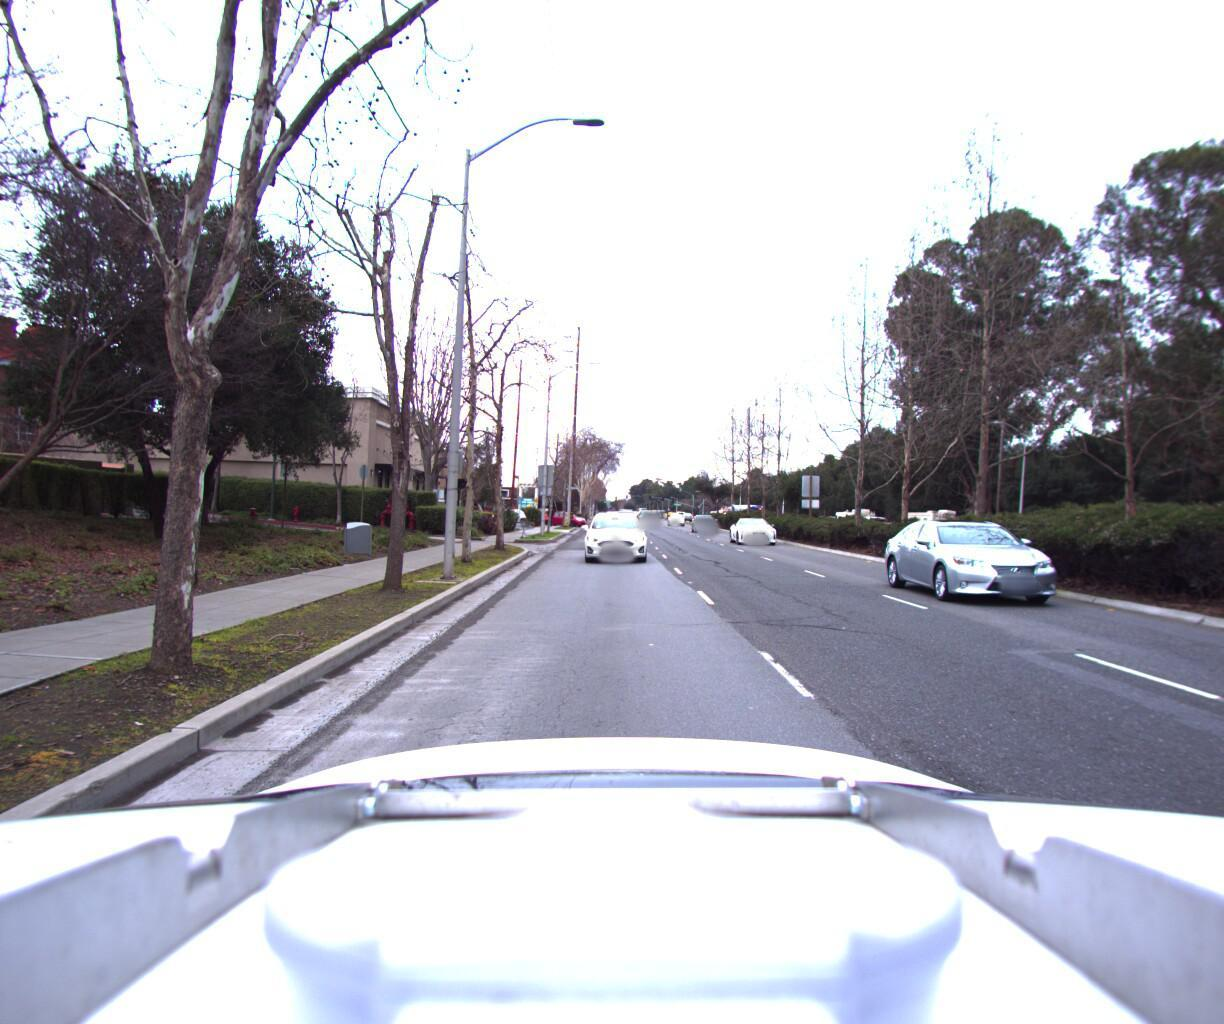car: (895, 514, 1128, 621), (580, 507, 651, 566), (727, 513, 782, 544), (844, 513, 883, 535), (540, 506, 590, 524), (689, 510, 722, 530)
other_vehicle: (892, 504, 965, 545)
